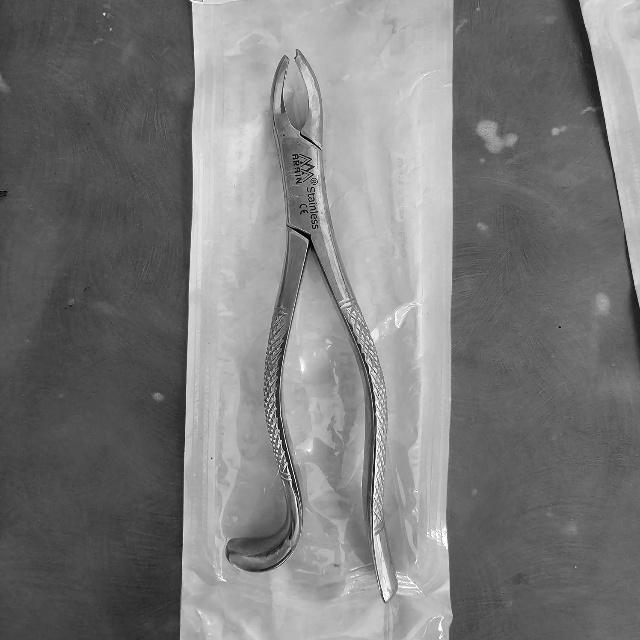forceps: (228, 51, 388, 582)
